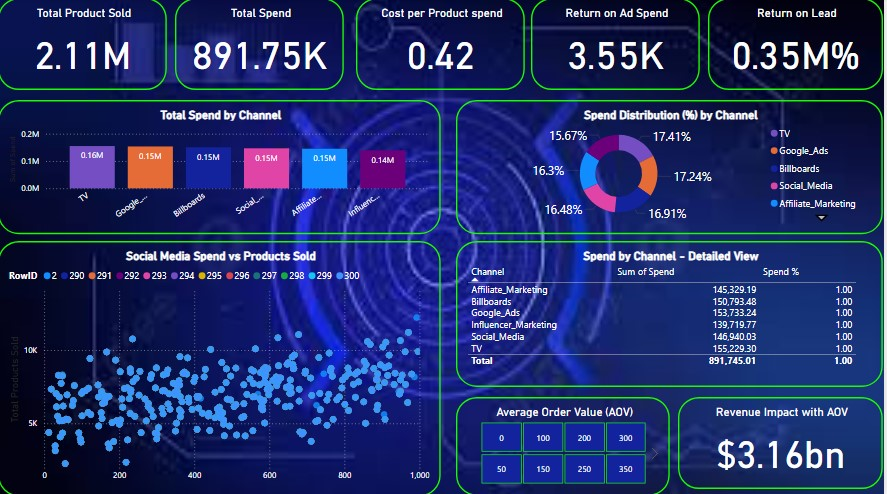

This screenshot's page, from the dashboard's own definition file:
{"tool":"powerbi","page":{"name":"Page 1","canvas":[1280,720],"ordinal":0},"visuals":[{"type":"slicer","title":"Average Order Value (AOV)","fields":{"Values":["Average Order Value (AOV).Average Order Value (AOV)"]},"box":[662.2,576.9,309.4,143.1],"z":0},{"type":"card","title":"Return on Ad Spend","fields":{"Values":["measure.ROAS"]},"box":[770.6,0,244.3,133],"z":1000},{"type":"card","title":"Return on Lead","fields":{"Values":["measure.ROI"]},"box":[1026.5,0,253,133],"z":2000},{"type":"card","title":"Total Product Sold","fields":{"Values":["measure.Total Products Sold"]},"box":[0,0,244.3,133],"z":3000},{"type":"card","title":"Total Spend","fields":{"Values":["measure.Total Spend"]},"box":[255.9,0,244.3,133],"z":4000},{"type":"card","title":"Cost per Product spend","fields":{"Values":["measure.CPA"]},"box":[517.6,0,244.3,133],"z":5000},{"type":"clusteredColumnChart","title":"Total Spend by Channel","fields":{"Category":["Ads Spend.Channel"],"Y":["Sum(Ads Spend.Spend)"]},"box":[0,147.5,640.5,193.7],"z":6000},{"type":"donutChart","title":"Spend Distribution (%) by Channel","fields":{"Category":["Ads Spend.Channel"],"Y":["Sum(Ads Spend.Spend)"]},"box":[662.2,147.5,617.3,193.7],"z":7000},{"type":"scatterChart","title":"Social Media Spend vs Products Sold","fields":{"X":["Ads Base.Social_Media"],"Y":["measure.Total Products Sold"],"Series":["Ads Spend.RowID"]},"box":[0,351.3,640.5,368.7],"z":8000},{"type":"tableEx","title":"Spend by Channel - Detailed View","fields":{"Values":["Ads Spend.Channel","Sum(Ads Spend.Spend)","measure.Spend %"]},"box":[662.2,351.3,617.3,211.1],"z":9000},{"type":"card","title":"Revenue Impact with AOV","fields":{"Values":["measure.Revenue"]},"box":[983.1,576.9,296.4,133],"z":9001}]}

Visuals, with their boxes in screenshot pixels (x1, y1, x2, y2), scaled from the page's 1280x720 canvas onto the 887x494 screenshot:
"Average Order Value (AOV)" slicer: [left=459, top=396, right=673, bottom=493]
"Return on Ad Spend" card: [left=534, top=0, right=703, bottom=91]
"Return on Lead" card: [left=711, top=0, right=886, bottom=91]
"Total Product Sold" card: [left=0, top=0, right=169, bottom=91]
"Total Spend" card: [left=177, top=0, right=347, bottom=91]
"Cost per Product spend" card: [left=359, top=0, right=528, bottom=91]
"Total Spend by Channel" clusteredColumnChart: [left=0, top=101, right=444, bottom=234]
"Spend Distribution (%) by Channel" donutChart: [left=459, top=101, right=886, bottom=234]
"Social Media Spend vs Products Sold" scatterChart: [left=0, top=241, right=444, bottom=493]
"Spend by Channel - Detailed View" tableEx: [left=459, top=241, right=886, bottom=386]
"Revenue Impact with AOV" card: [left=681, top=396, right=886, bottom=487]
